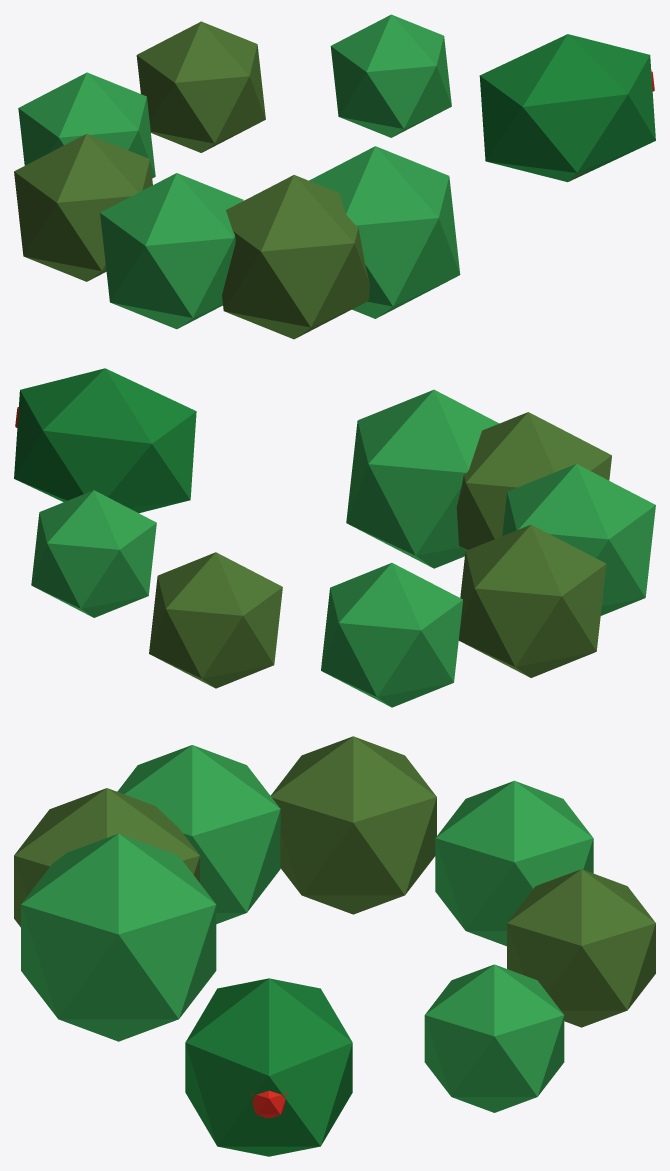
The model's file is swamp_snake.glb.
3 views of the same model, one above another, from view 1: azimuth 30°, elevation 25°; view 2: azimuth 150°, elevation 25°; view 3: azimuth 270°, elevation 25° (orthographic). The views are drawn at different scales.
Parts seen in each view (by area): view 1: swamp_snake; view 2: swamp_snake; view 3: swamp_snake.
Part boxes in pixels (bbox=[...]): swamp_snake: bbox=[14, 14, 655, 339]; swamp_snake: bbox=[14, 368, 655, 707]; swamp_snake: bbox=[14, 736, 655, 1156].
Size of the model in its own units: 0.7551 by 0.215 by 0.5871.
